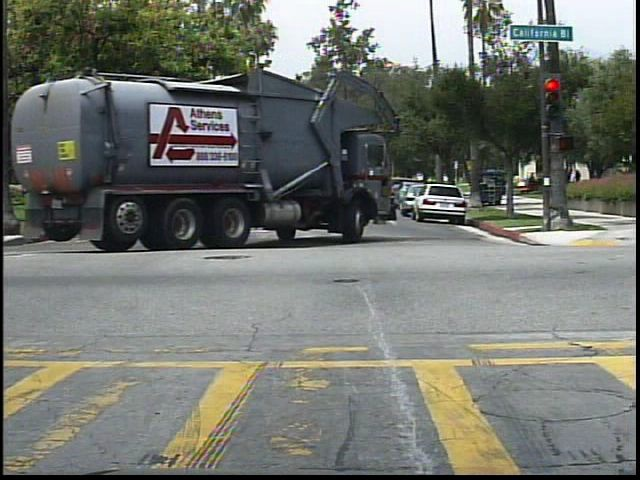person: (570, 165, 588, 195)
